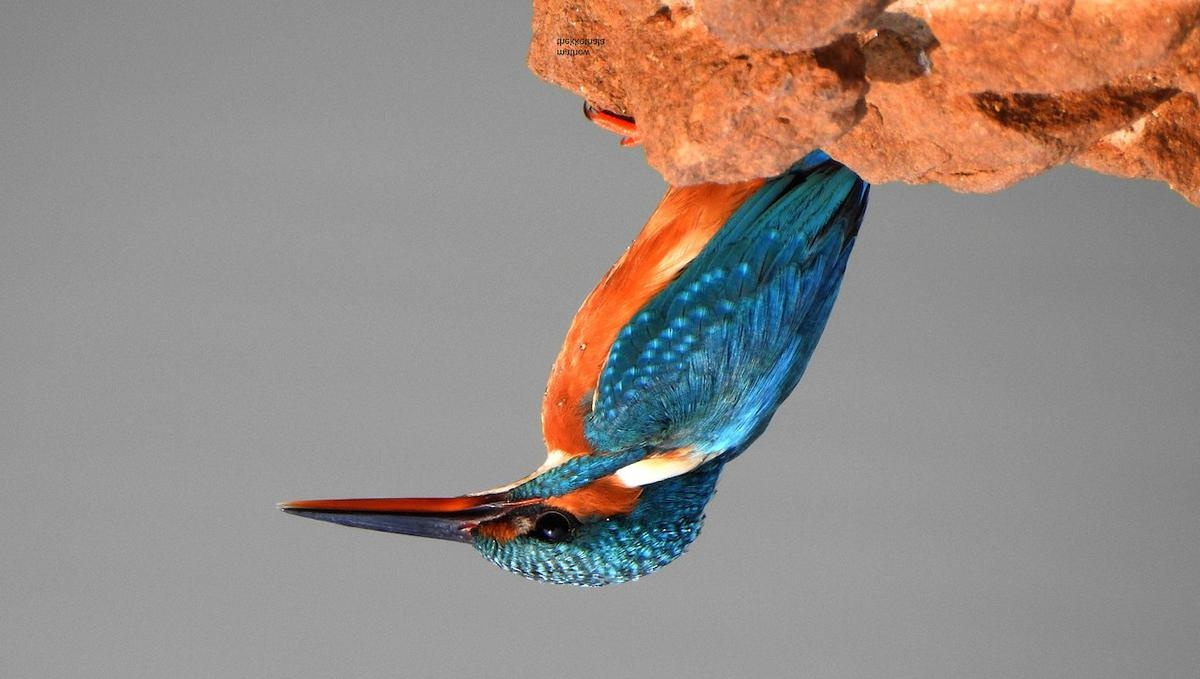kingfisher: (263, 135, 883, 592)
